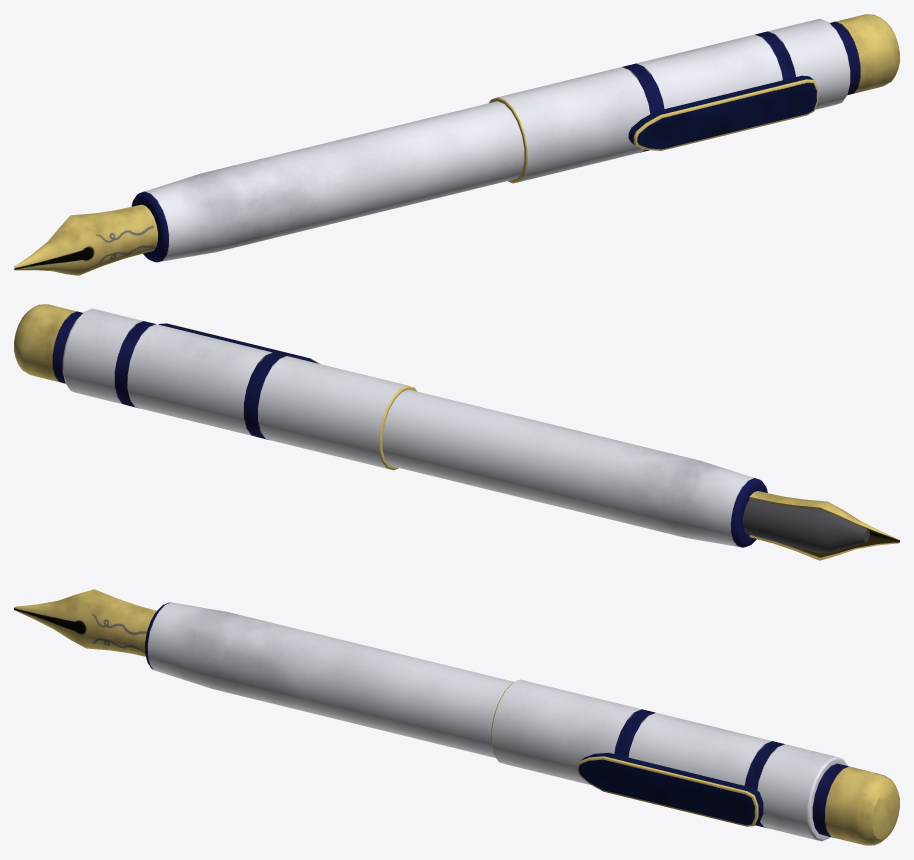
Rendered from obj_feeling_piece_1.fbx.
The picture shows the model from 3 angles, top to bottom: view 1: azimuth 30°, elevation 25°; view 2: azimuth 150°, elevation 25°; view 3: azimuth 330°, elevation 25°; orthographic projection.
Visible parts, largest first — view 1: pen; view 2: pen; view 3: pen.
Boxes of the visible parts, box(x1,y1,x2,y2) form: pen: box(14, 14, 899, 275); pen: box(14, 304, 899, 560); pen: box(14, 589, 899, 845).
Size of the model in its own units: 19.57 by 1.7 by 2.08.
